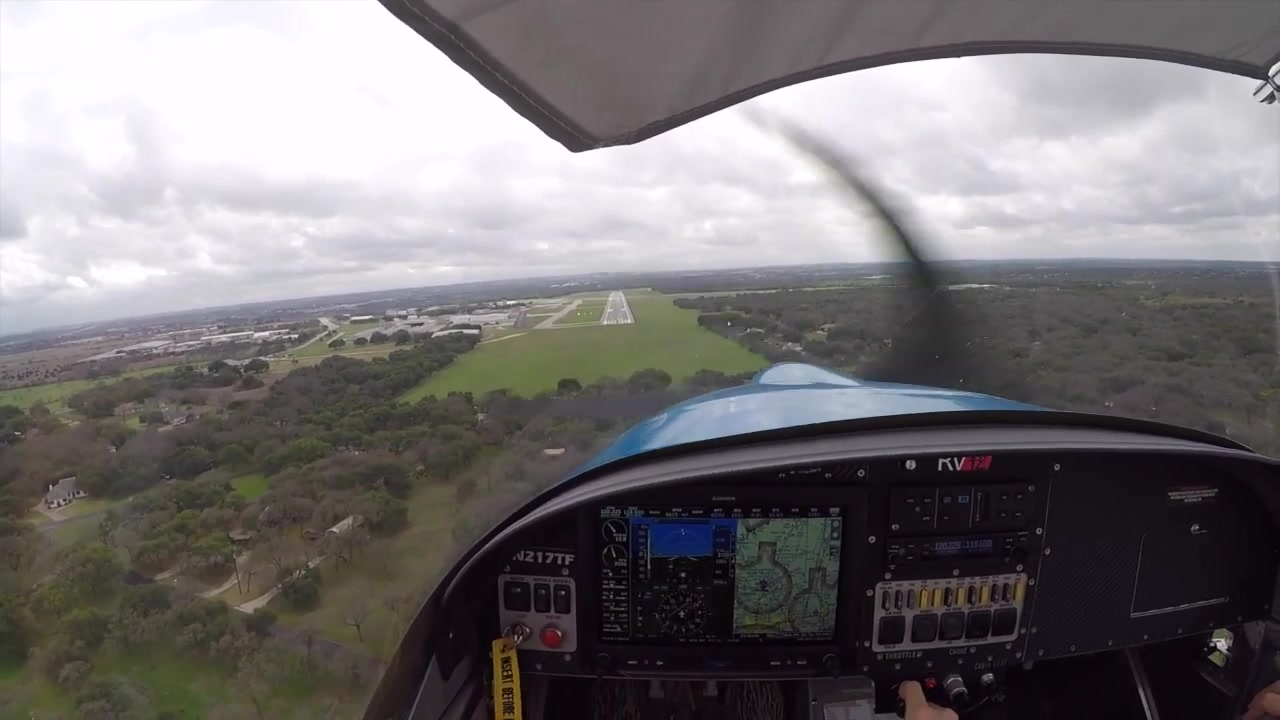entrance: (603, 319, 631, 324)
runway: (600, 291, 635, 328)
